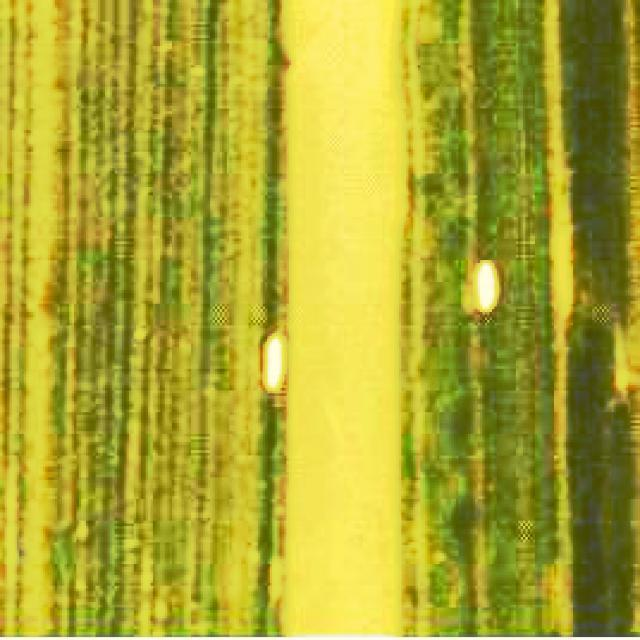whorl-maggot: (466, 251, 510, 323), (258, 318, 288, 401)
